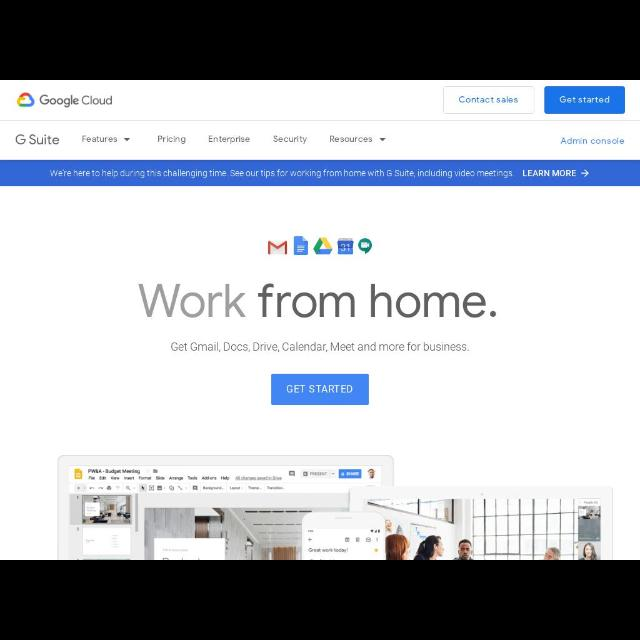icon: (581, 170, 589, 178), (124, 138, 130, 144), (380, 137, 386, 141)
image: (60, 456, 614, 560), (17, 93, 114, 109), (314, 238, 332, 256), (268, 240, 288, 256), (294, 237, 308, 257), (338, 237, 352, 255), (358, 238, 372, 254)
spinner: (326, 132, 392, 148), (78, 132, 136, 148)
text: (138, 284, 496, 320), (51, 169, 516, 179), (170, 342, 470, 352), (561, 137, 625, 147), (459, 95, 517, 106), (15, 134, 60, 148), (560, 93, 610, 105), (286, 385, 352, 393), (523, 169, 577, 177), (82, 134, 118, 144), (274, 135, 308, 145), (208, 136, 250, 144), (331, 136, 372, 144), (158, 135, 186, 145)
textbutton: (271, 374, 369, 404), (444, 87, 534, 115), (544, 86, 624, 114)
